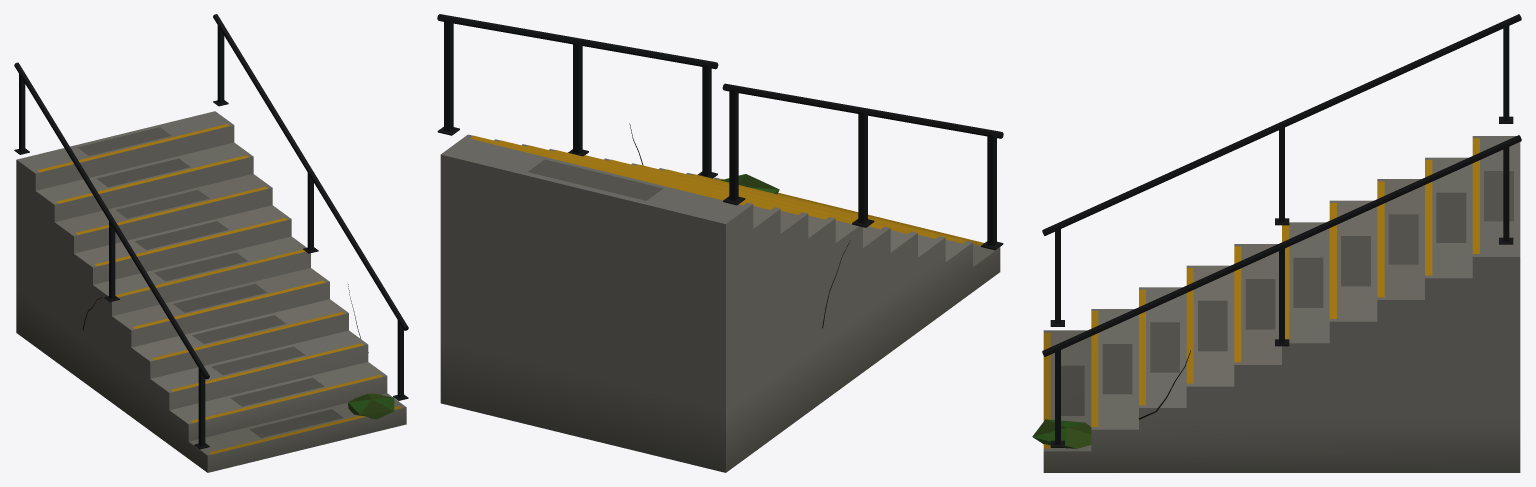
File: kit_stairs.glb
The picture shows the model from 3 angles, left to right: view 1: azimuth 30°, elevation 25°; view 2: azimuth 150°, elevation 25°; view 3: azimuth 270°, elevation 25°; orthographic projection. The views are drawn at different scales.
Visible parts, largest first — view 1: Mesh; view 2: Mesh; view 3: Mesh.
Boxes of the visible parts, x1,y1,x2,y2 form: Mesh: [14, 14, 408, 472]; Mesh: [437, 14, 1003, 472]; Mesh: [1032, 14, 1521, 472].
Size of the model in its own units: 2.52 by 3.12 by 4.11.
